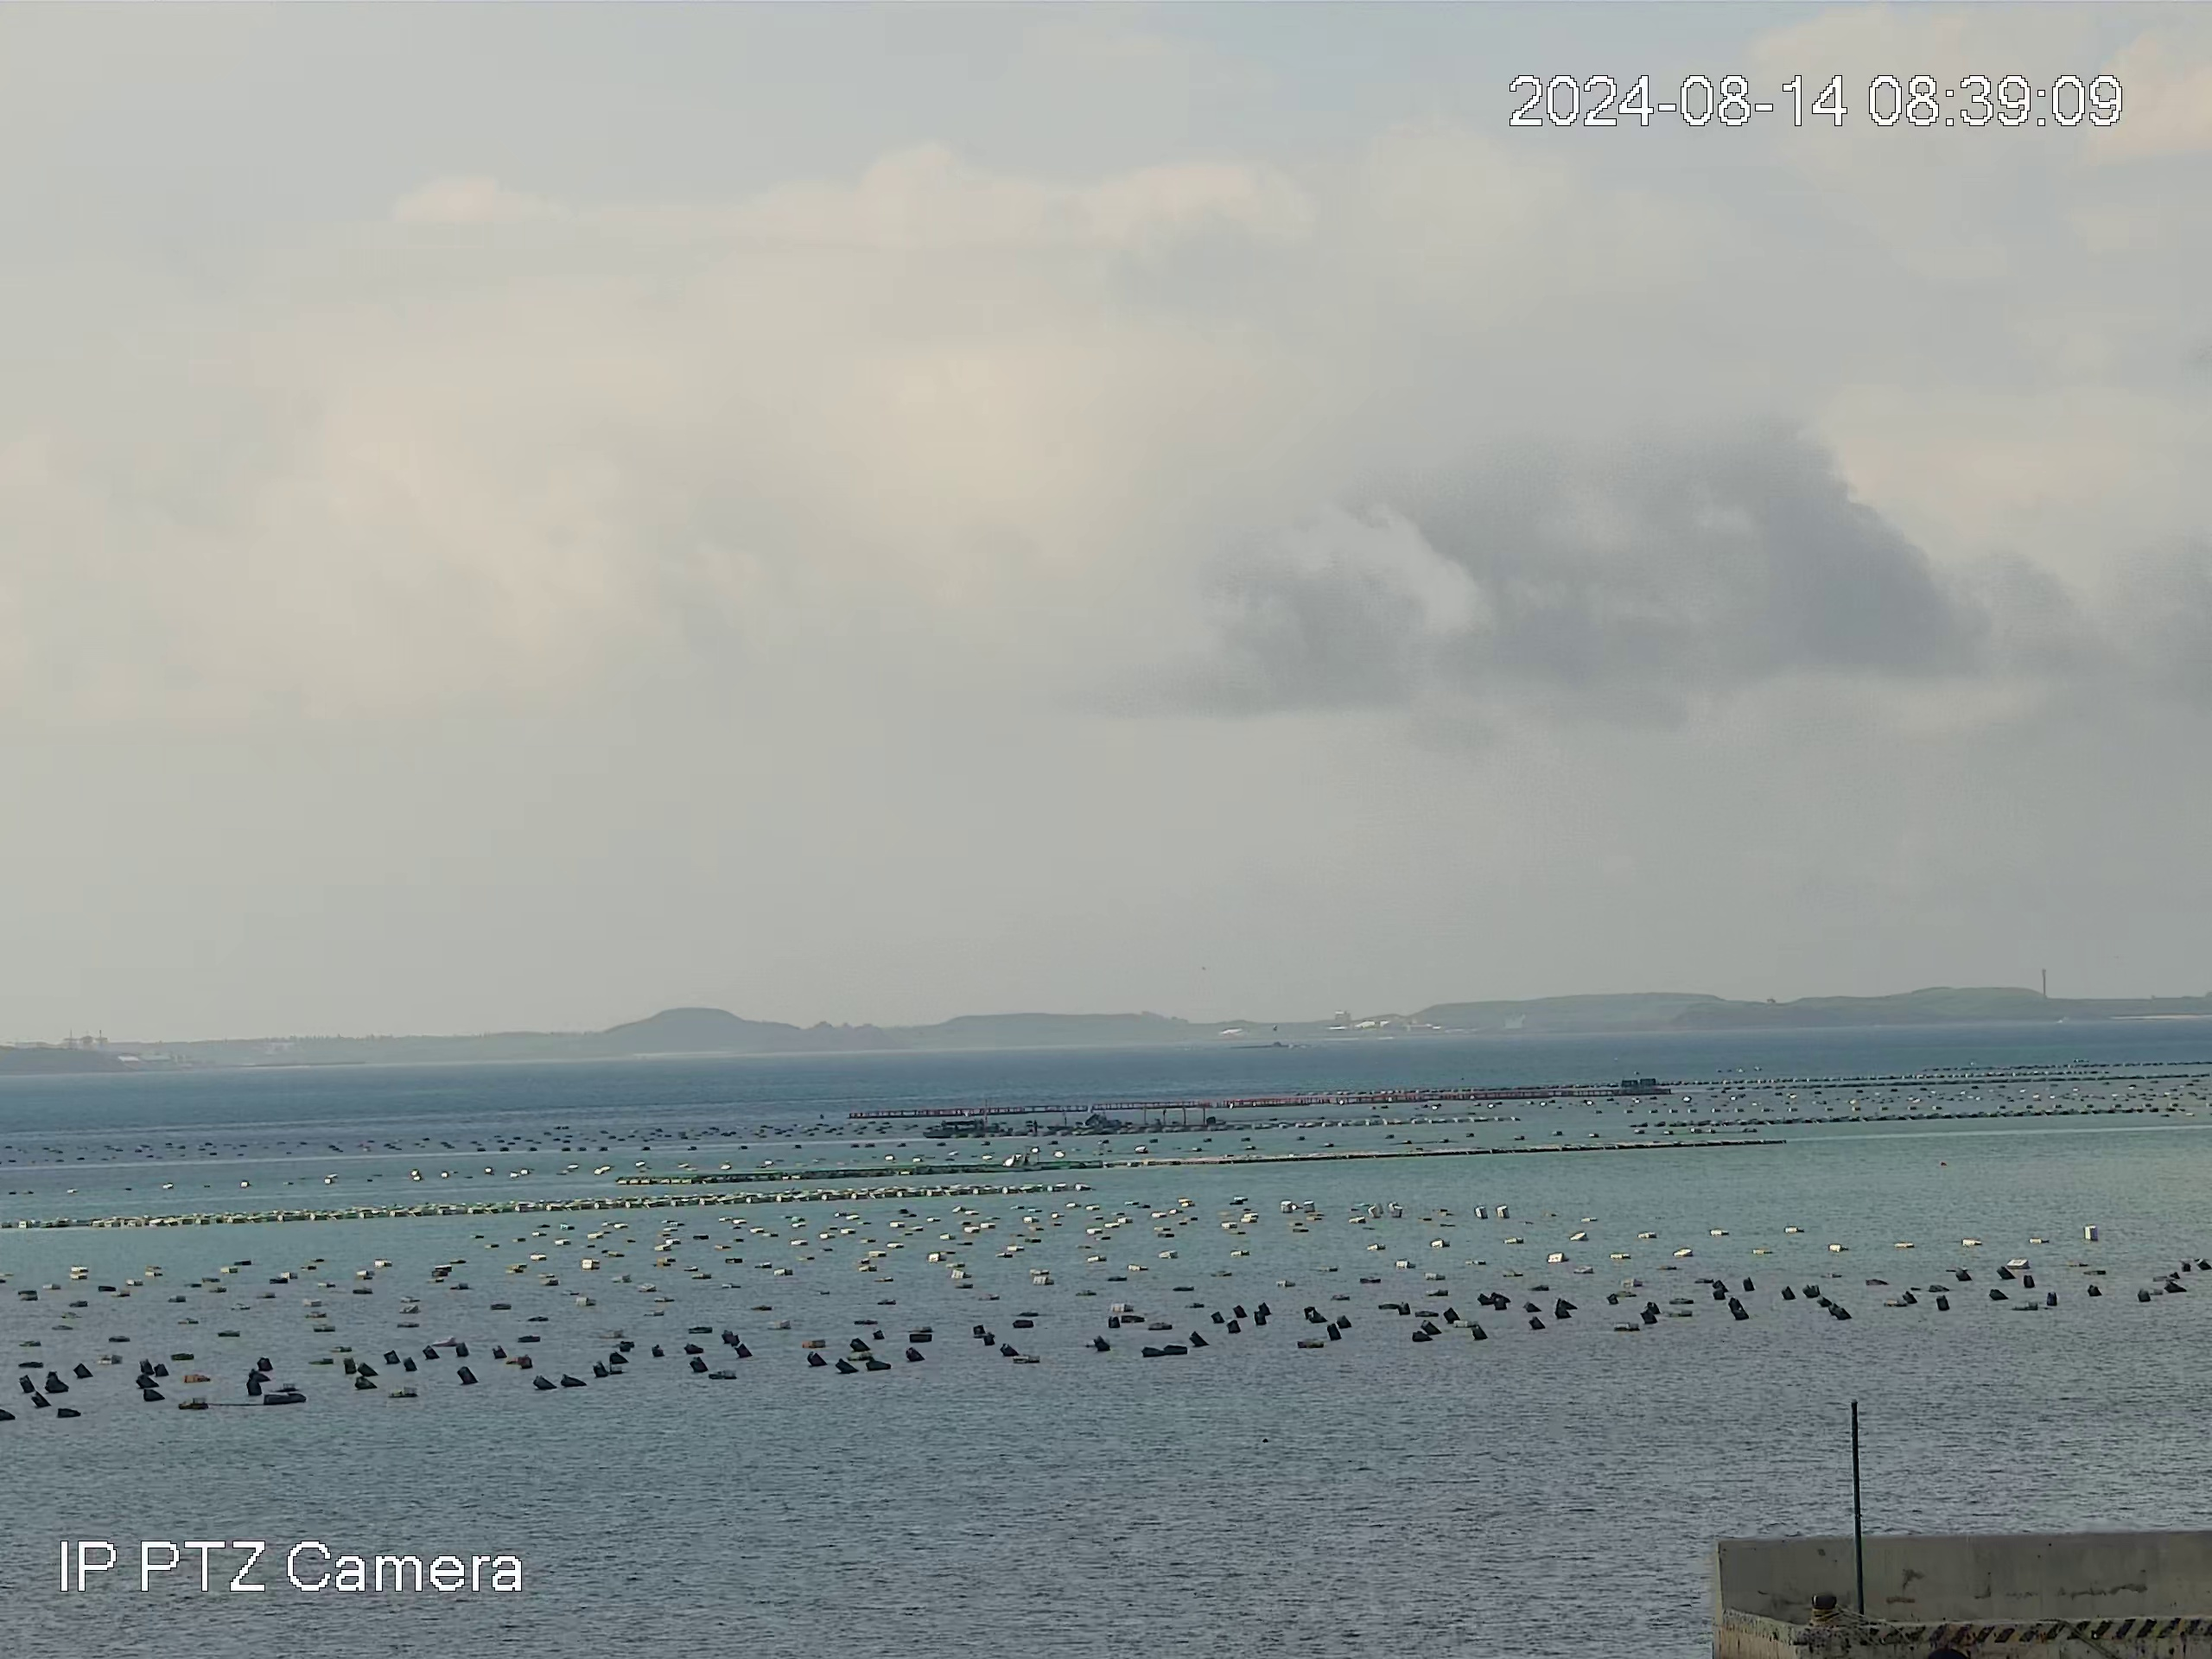boat: (928, 1122, 995, 1141)
